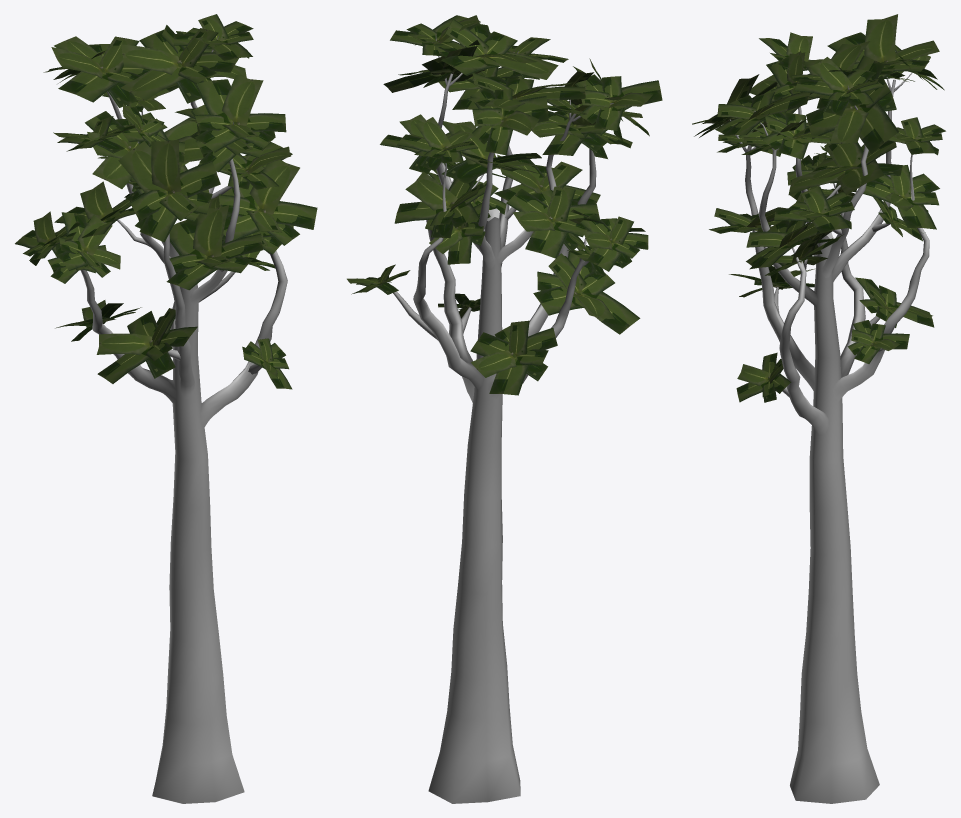
Rendered from Tree1Leaves.fbx.
3 renders of one model, left to right at view 1: azimuth 30°, elevation 25°; view 2: azimuth 150°, elevation 25°; view 3: azimuth 270°, elevation 25°, orthographic. The views are drawn at different scales.
Parts seen in each view (by area): view 1: Tree1_LOD0, Plane.010, Plane.001, Plane.013, Plane.018, Plane.016, Plane.002, Plane.029, Plane.026, Plane.008, Plane, Plane.024 (+10 smaller); view 2: Tree1_LOD0, Plane.028, Plane.029, Plane.019, Plane.021, Plane.001, Plane.004, Plane.007, Plane.027, Plane.002, Plane.022, Plane.023 (+11 smaller); view 3: Tree1_LOD0, Plane.005, Plane.023, Plane.002, Plane.021, Plane, Plane.013, Plane.024, Plane.016, Plane.014, Plane.031, Plane.030 (+12 smaller).
Part boxes in pixels (x1,y1,x2,y2): Tree1_LOD0: [55, 36, 287, 803]; Plane.010: [118, 139, 220, 242]; Plane.001: [120, 28, 238, 103]; Plane.013: [194, 74, 286, 152]; Plane.018: [166, 205, 262, 290]; Plane.016: [218, 156, 317, 245]; Plane.002: [51, 36, 150, 107]; Plane.029: [96, 308, 197, 383]; Plane.026: [55, 212, 120, 277]; Plane.008: [85, 111, 184, 188]; Plane: [173, 14, 253, 60]; Plane.024: [198, 142, 292, 189]; Tree1_LOD0: [393, 35, 613, 803]; Plane.028: [470, 320, 557, 395]; Plane.029: [533, 250, 640, 334]; Plane.019: [506, 186, 599, 258]; Plane.021: [394, 171, 485, 237]; Plane.001: [434, 19, 558, 79]; Plane.004: [470, 85, 548, 155]; Plane.007: [575, 74, 662, 130]; Plane.027: [580, 213, 648, 271]; Plane.002: [466, 72, 585, 110]; Plane.022: [397, 117, 478, 170]; Plane.023: [409, 121, 544, 183]; Tree1_LOD0: [730, 72, 929, 803]; Plane.005: [806, 55, 898, 153]; Plane.023: [788, 140, 902, 195]; Plane.002: [827, 14, 939, 77]; Plane.021: [863, 165, 939, 229]; Plane: [794, 57, 884, 115]; Plane.013: [715, 92, 810, 135]; Plane.024: [774, 186, 854, 233]; Plane.016: [746, 213, 840, 269]; Plane.014: [761, 112, 849, 159]; Plane.031: [736, 352, 791, 402]; Plane.030: [847, 320, 909, 363].
Size of what is drawn, in the model's own units: 172 by 461 by 146.
